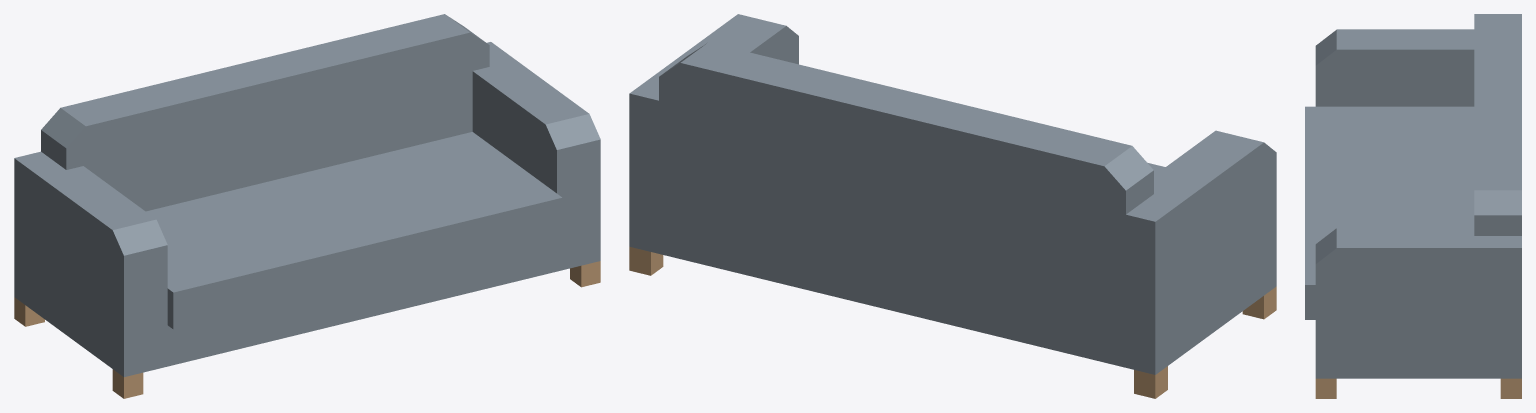
Rendered from sofa-3seat.glb.
3 views of the same model, side by side, from view 1: azimuth 30°, elevation 25°; view 2: azimuth 150°, elevation 25°; view 3: azimuth 270°, elevation 25° (orthographic). The views are drawn at different scales.
Parts seen in each view (by area): view 1: sofa-3seat; view 2: sofa-3seat; view 3: sofa-3seat.
Boxes of the visible parts, box(x1,y1,x2,y2) form: sofa-3seat: box(14, 14, 600, 398); sofa-3seat: box(629, 14, 1276, 398); sofa-3seat: box(1305, 14, 1521, 398).
Size of the model in its own units: 2.1 by 0.84 by 0.88.
